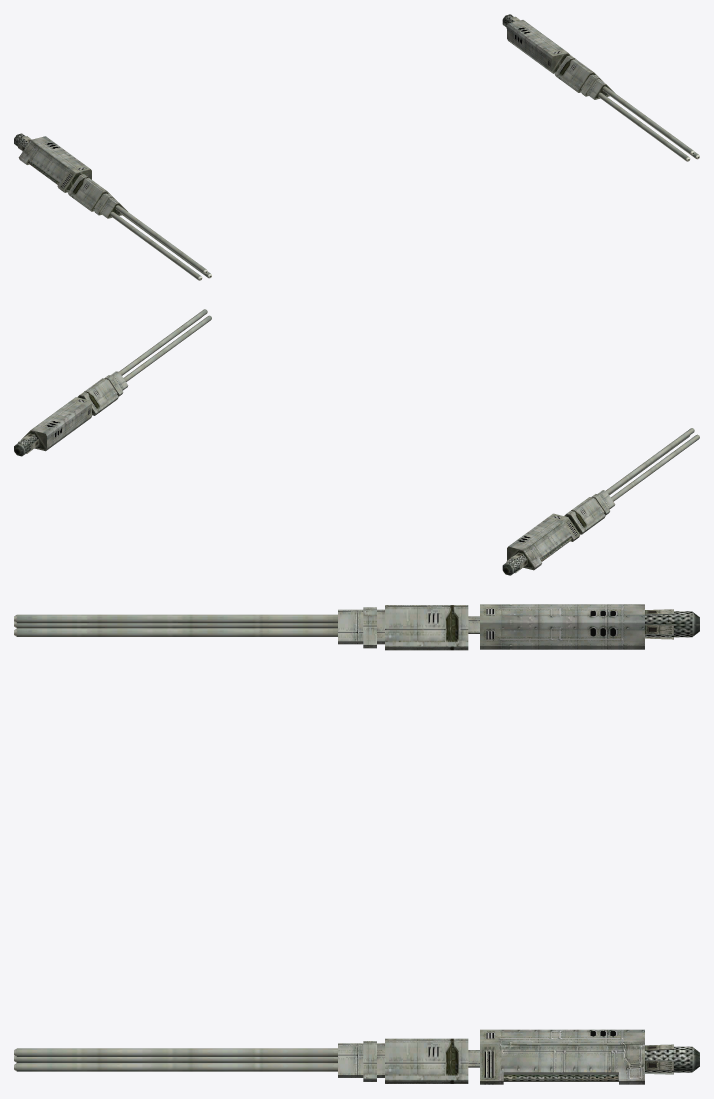
File: z95_weapon_s04_l0.fbx
3 renders of one model, top to bottom at view 1: azimuth 30°, elevation 25°; view 2: azimuth 150°, elevation 25°; view 3: azimuth 270°, elevation 25°, orthographic. The views are drawn at different scales.
Visible parts, largest first — view 1: mesh_node; view 2: mesh_node; view 3: mesh_node.
Part boxes in pixels (x1,y1,x2,y2): mesh_node: [14, 14, 699, 280]; mesh_node: [14, 309, 699, 575]; mesh_node: [14, 604, 699, 1084].
Bounding box in the file's own units: 14.51 × 0.4698 × 9.14.
1 material, 1 textured.
